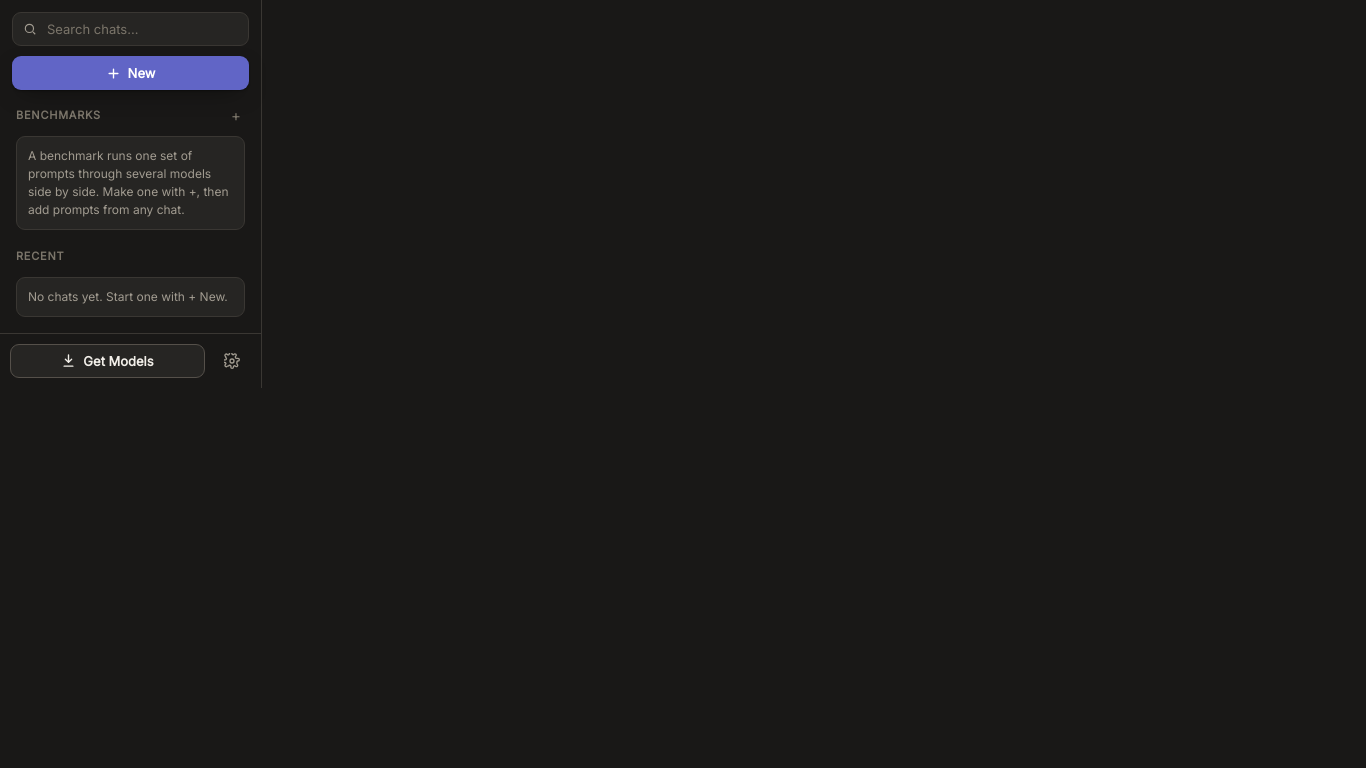
Test: + New › asks which model to load when none is resident, and loads nothing until told
This screenshot has width=1366, height=768.
Click the button "New" at x=130, y=73, box x1=12 y1=56 x2=249 y2=90
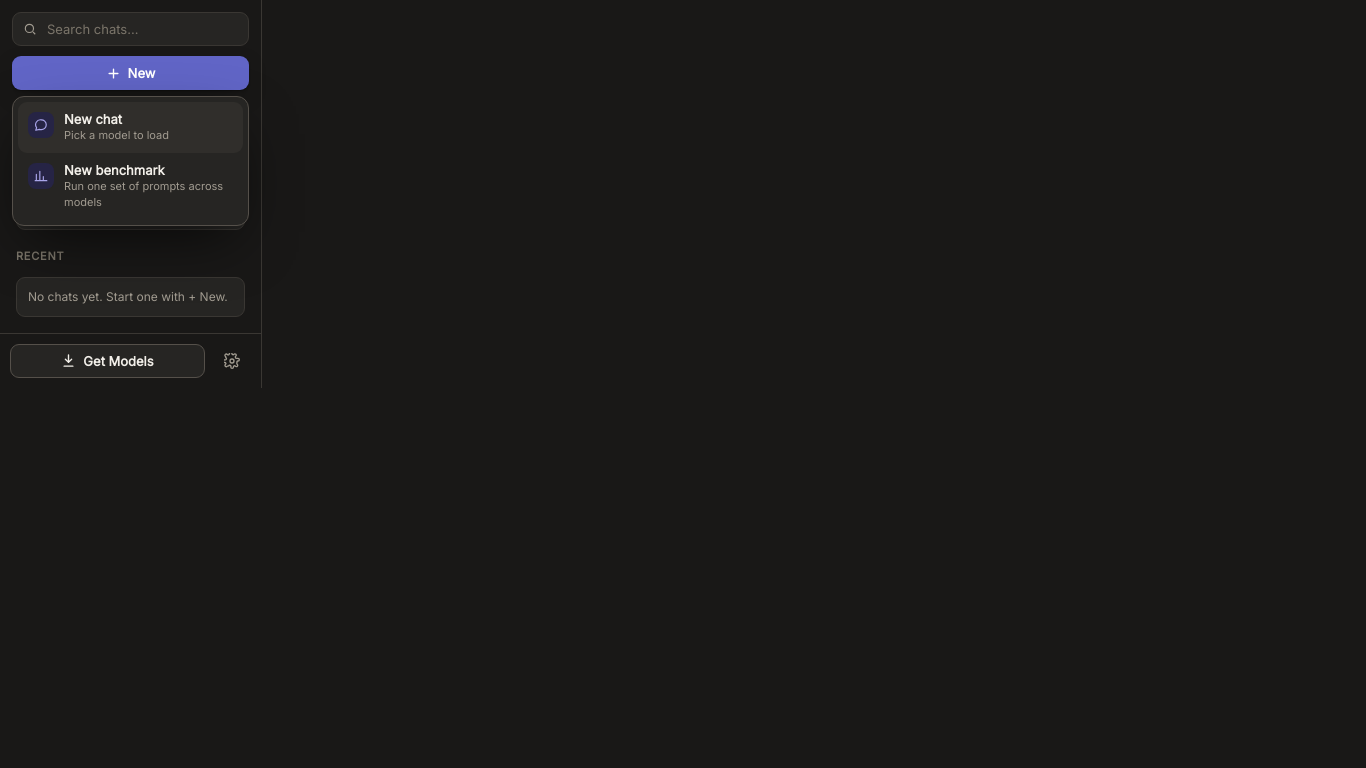
Now the text "Pick a model to load" is shown, box x1=64 y1=128 x2=169 y2=142
Click the menu item "New chat Pick a model to load" at x=130, y=127, box x1=18 y1=102 x2=243 y2=153
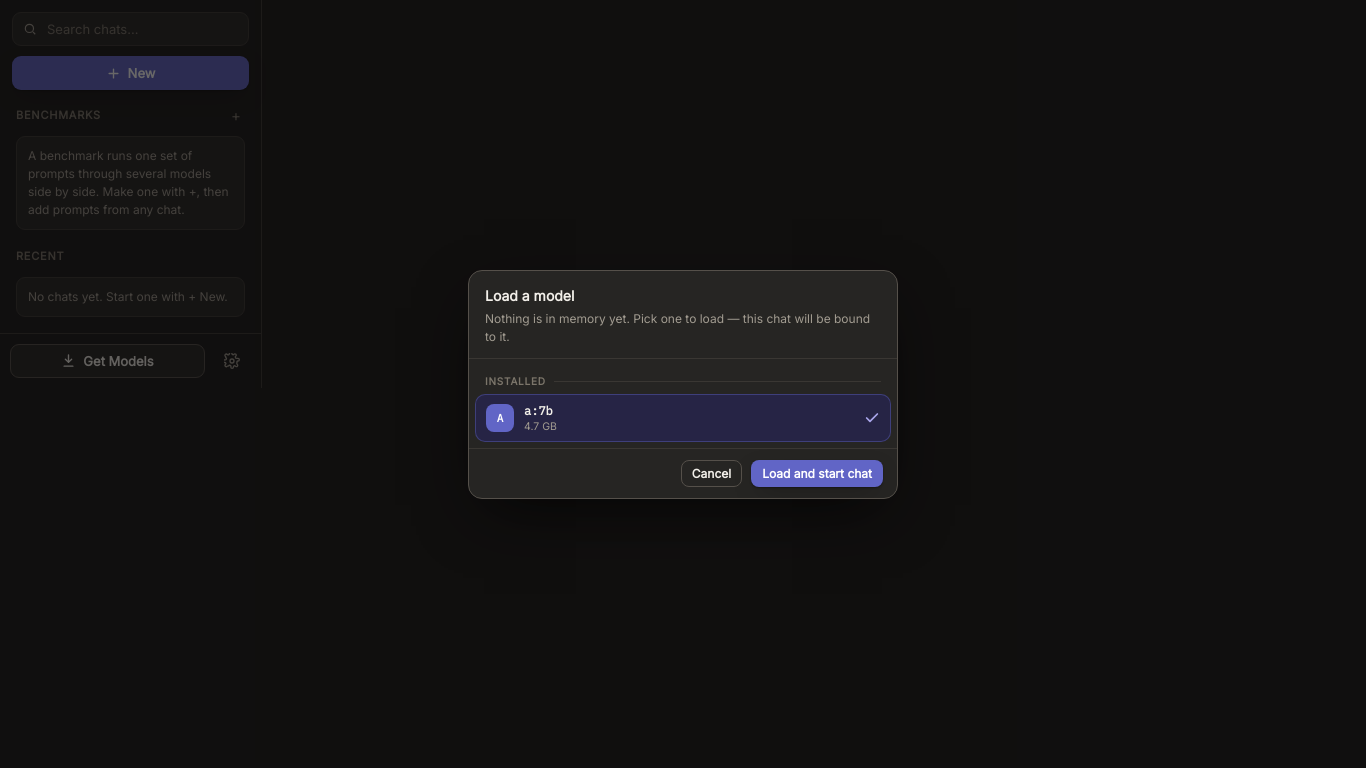
Now the button "Load and start chat" is shown, box x1=751 y1=460 x2=883 y2=486
